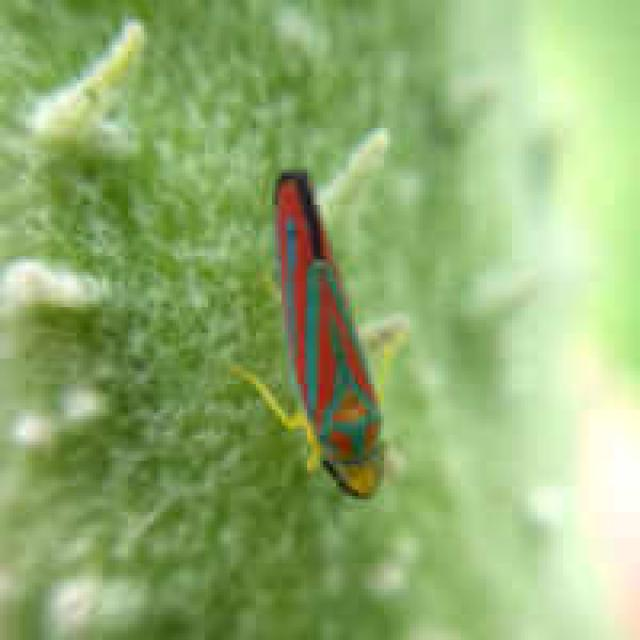Yechan: (223, 163, 430, 511)
